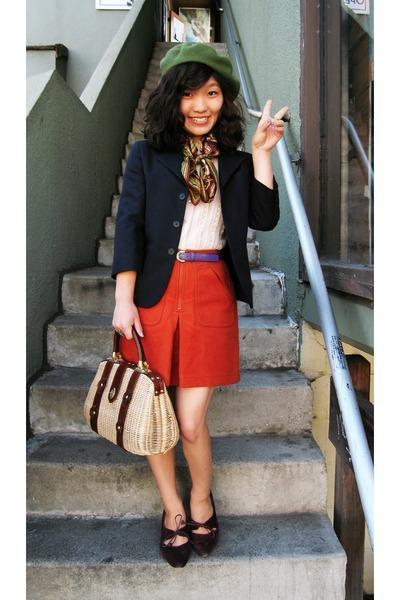bag: (84, 360, 178, 454)
hat: (150, 36, 233, 77)
jacket: (108, 141, 279, 310)
shirt: (177, 186, 224, 260)
shoe: (163, 516, 217, 567)
skirt: (113, 259, 239, 388)
